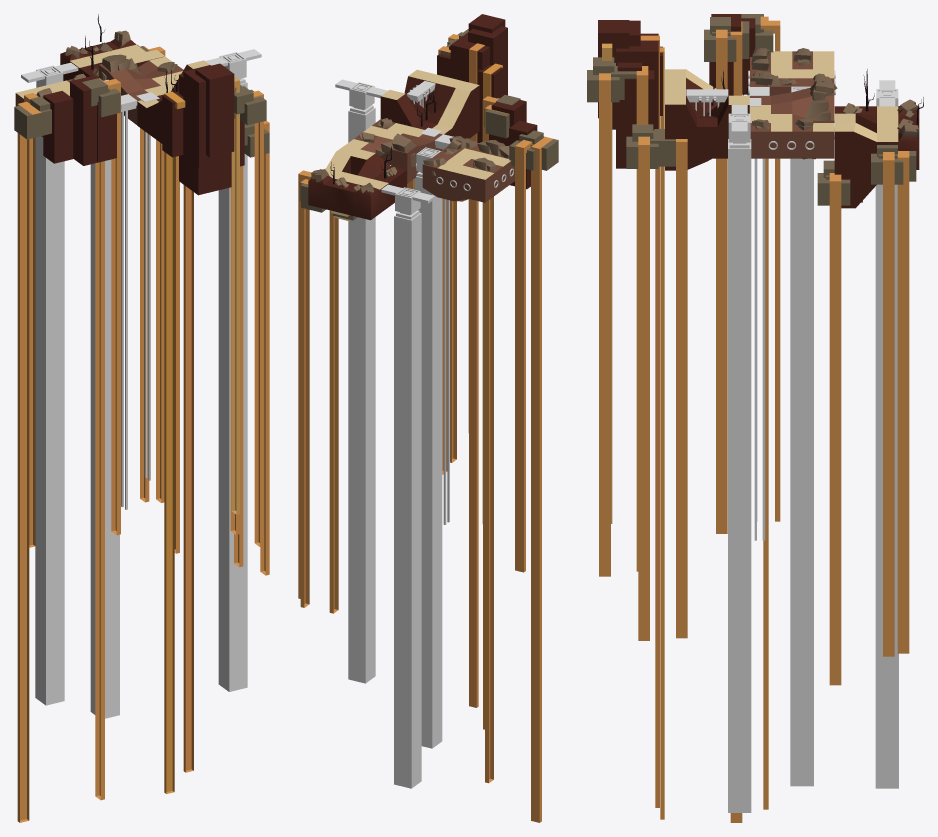
The model's file is Level 2.fbx.
3 views of the same model, side by side, from view 1: azimuth 30°, elevation 25°; view 2: azimuth 150°, elevation 25°; view 3: azimuth 270°, elevation 25° (orthographic). The views are drawn at different scales.
Parts seen in each view (by area): view 1: Cube.011, Cube.008, Cube.006, Cube.043, Cube.045, Cube.046, Cube.068, Cube.031, Cube.057, Cube.041, Cube.025, Cube.076 (+24 smaller); view 2: Cube.011, Cube.008, Cube.043, Cube.006, Cube.046, Cube.068, Cube.028, Cube.012, Cube.015, Cube.005, Cube.009, Cube.007 (+20 smaller); view 3: Cube.008, Cube.043, Cube.011, Cube.076, Cube.015, Cube.012, Cube.013, Cube.031, Cube.023, Cube.057, Cube.005, Cube.073 (+25 smaller).
Part boxes in pixels (box(x1,y1,x2,y2)): Cube.011: box(21, 62, 78, 705); Cube.008: box(205, 49, 261, 691); Cube.006: box(17, 101, 41, 822); Cube.043: box(90, 79, 119, 718); Cube.045: box(164, 91, 185, 793); Cube.046: box(183, 185, 193, 772); Cube.068: box(95, 78, 104, 800); Cube.031: box(252, 90, 263, 546); Cube.057: box(103, 79, 120, 535); Cube.041: box(43, 75, 97, 165); Cube.025: box(231, 77, 239, 514); Cube.076: box(137, 44, 165, 502); Cube.011: box(381, 184, 434, 788); Cube.008: box(335, 79, 387, 683); Cube.043: box(414, 147, 442, 748); Cube.006: box(531, 136, 553, 822); Cube.046: box(469, 43, 484, 707); Cube.068: box(485, 104, 509, 783); Cube.028: box(515, 140, 532, 572); Cube.012: box(300, 179, 309, 607); Cube.015: box(329, 210, 338, 613); Cube.005: box(308, 153, 406, 220); Cube.009: box(380, 76, 479, 138); Cube.007: box(422, 142, 514, 202); Cube.008: box(728, 105, 751, 812); Cube.043: box(790, 86, 813, 786); Cube.011: box(875, 80, 898, 788); Cube.076: box(817, 145, 916, 656); Cube.015: box(829, 173, 841, 685); Cube.012: box(897, 151, 909, 653); Cube.013: box(638, 136, 649, 640); Cube.031: box(599, 73, 610, 576); Cube.023: box(676, 139, 687, 638); Cube.057: box(716, 29, 727, 533); Cube.005: box(834, 99, 919, 208); Cube.073: box(750, 87, 834, 158).
Bounding box in the file's own units: 1394 × 4413 × 1592.
